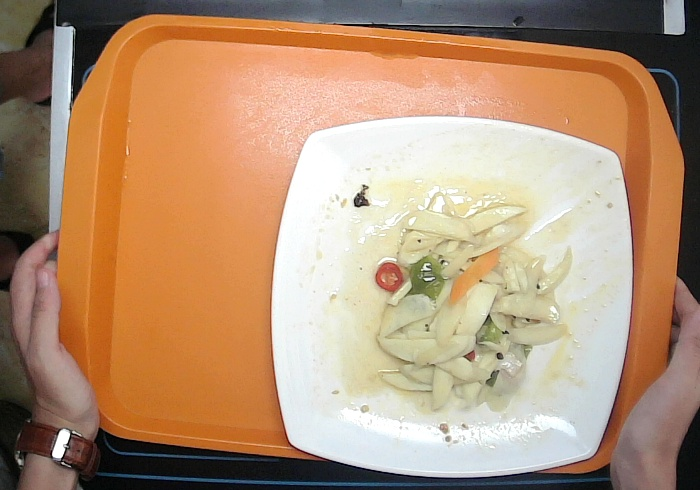ZNLD-Bai_Fang_Pan: (264, 99, 648, 481)
